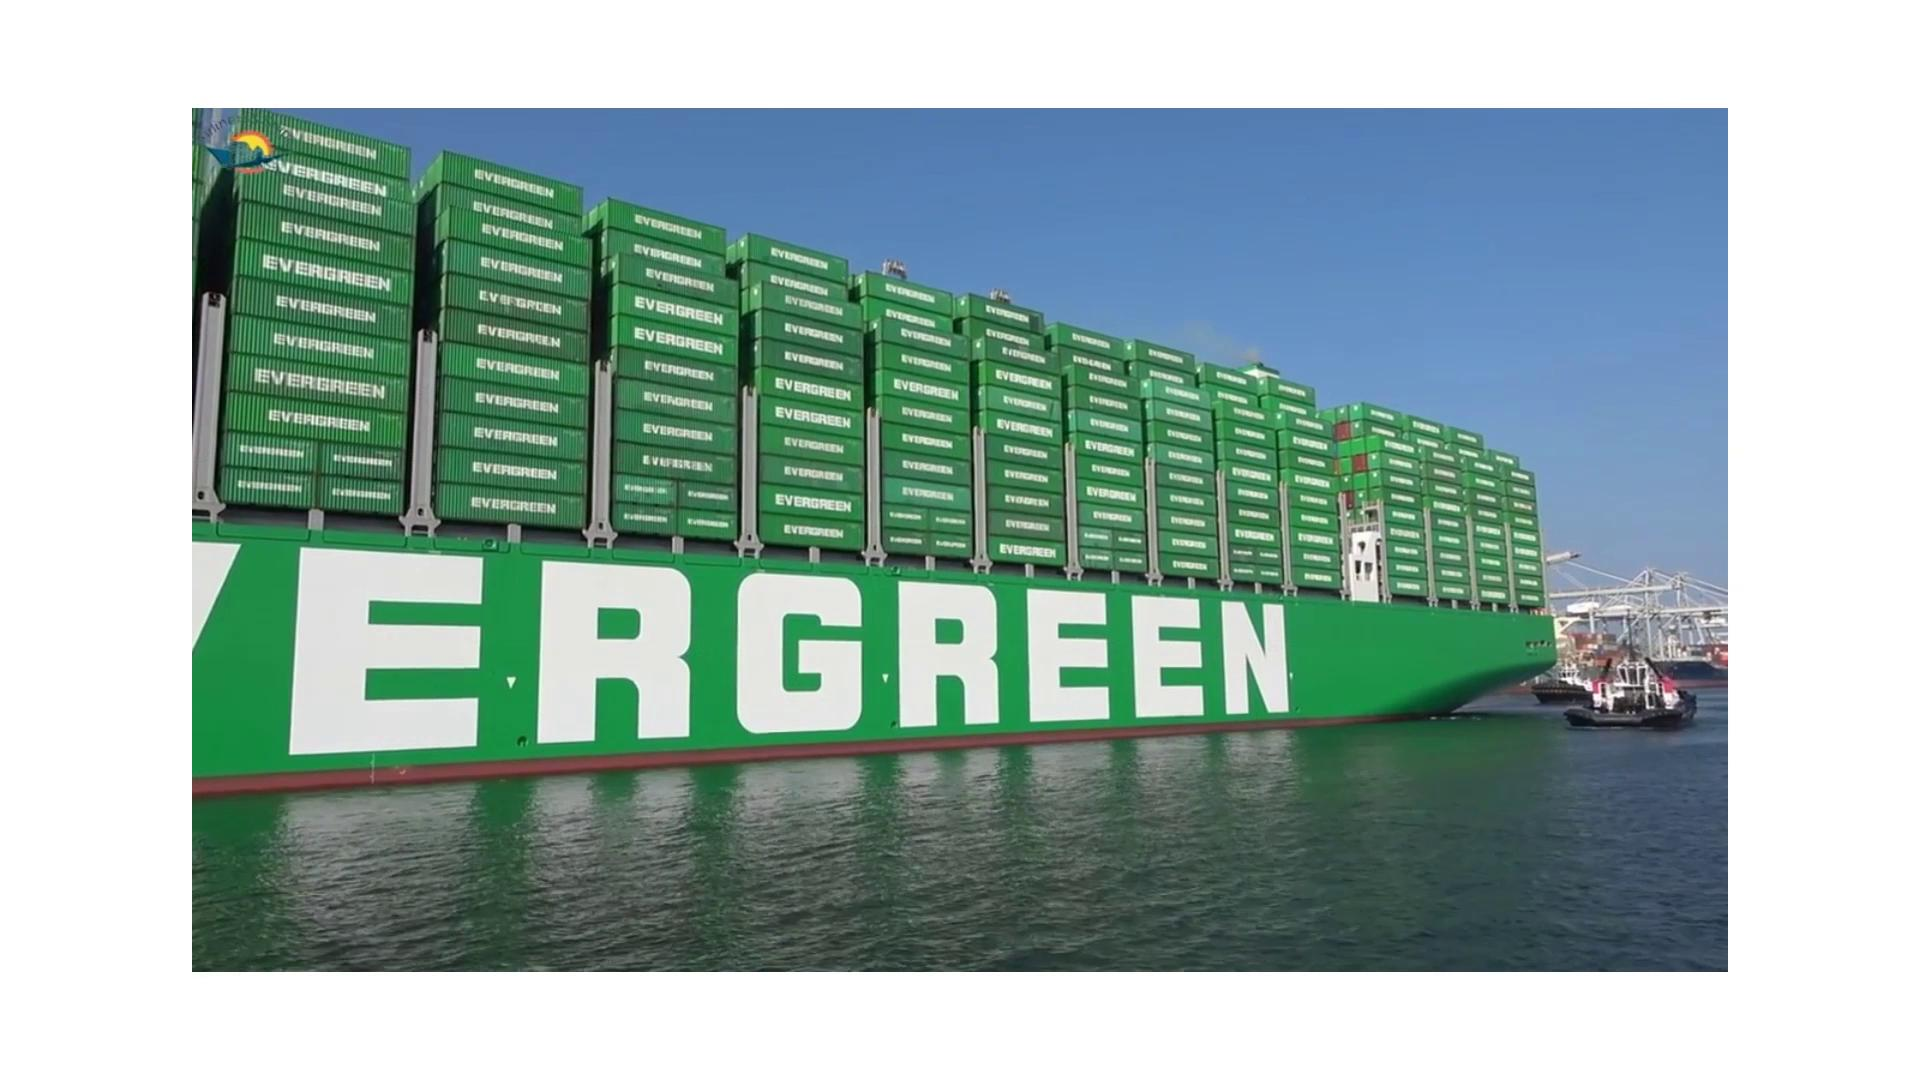OCR: (240, 535, 1312, 764)
